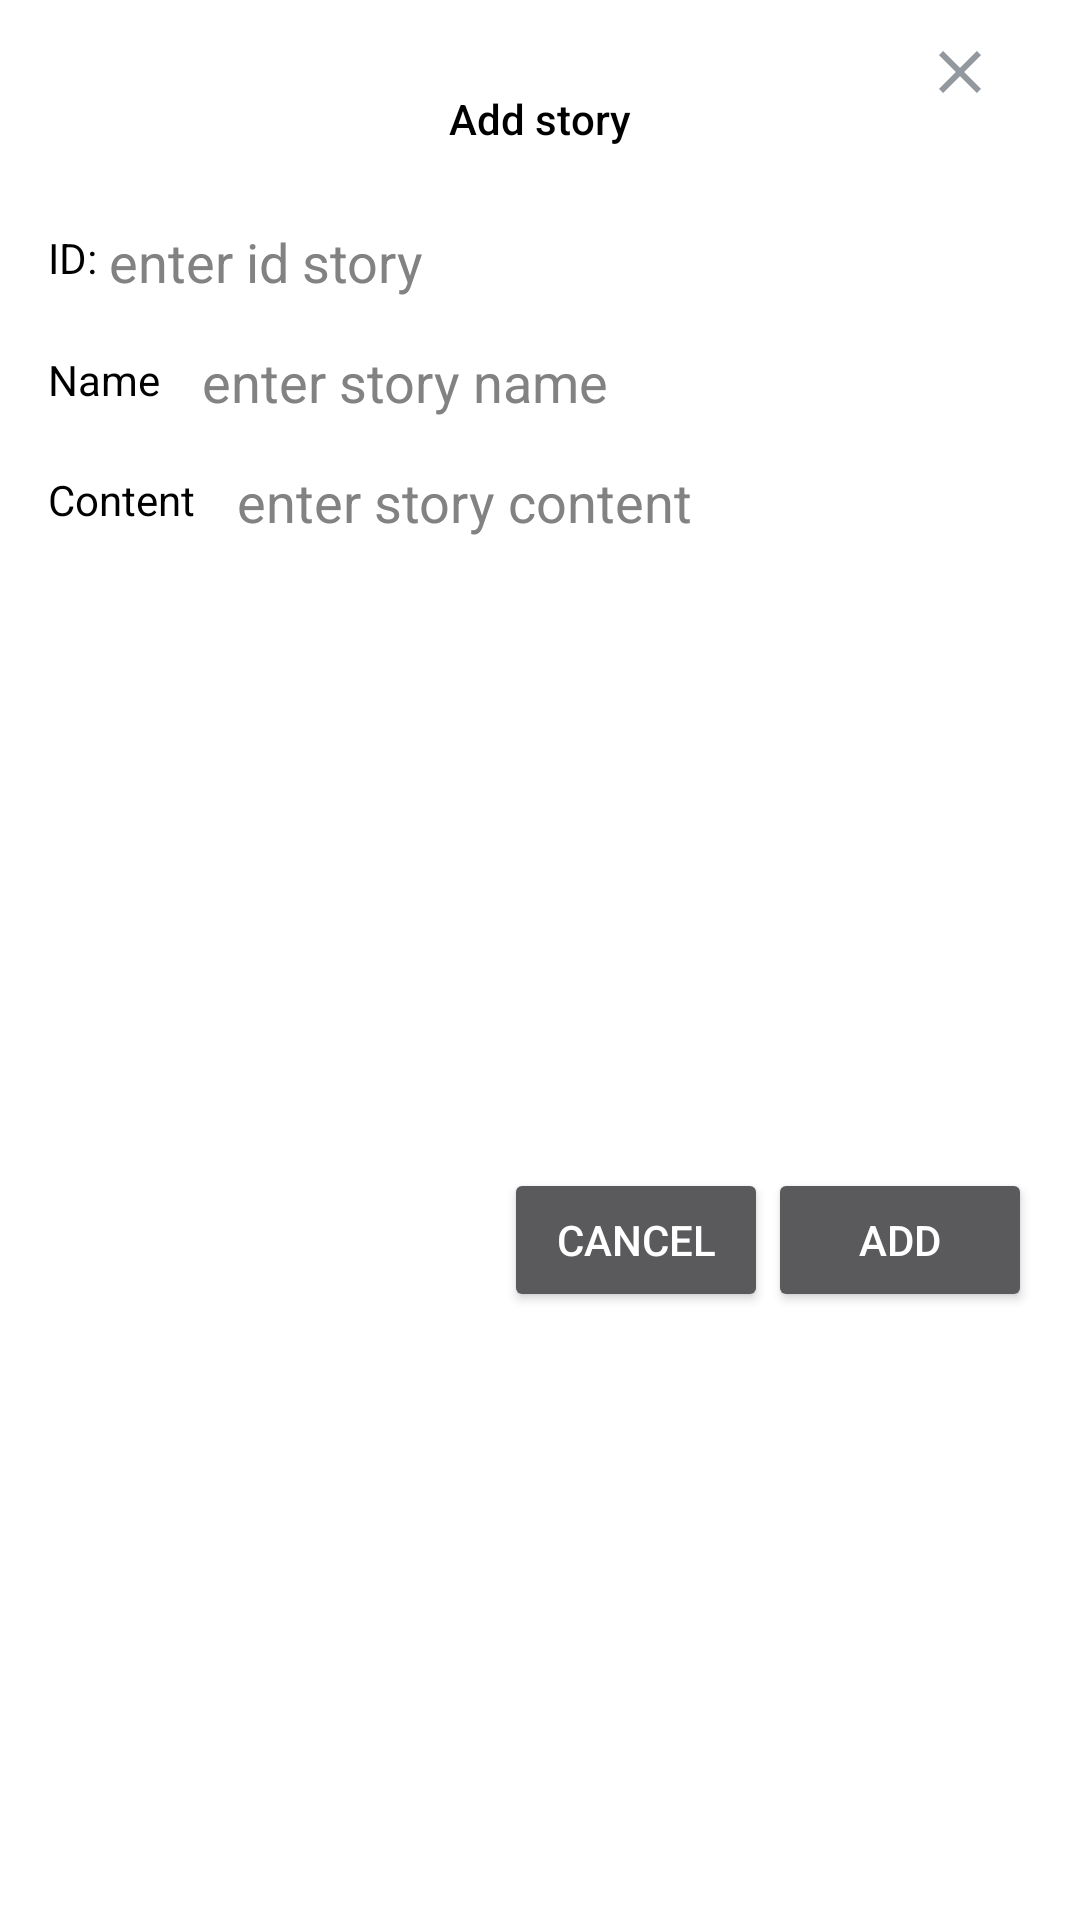

Named icons in this screenshot (1080x1920) and their bounding boxes, [x1,y1,x2,y2]:
close: [939,51,981,93]
